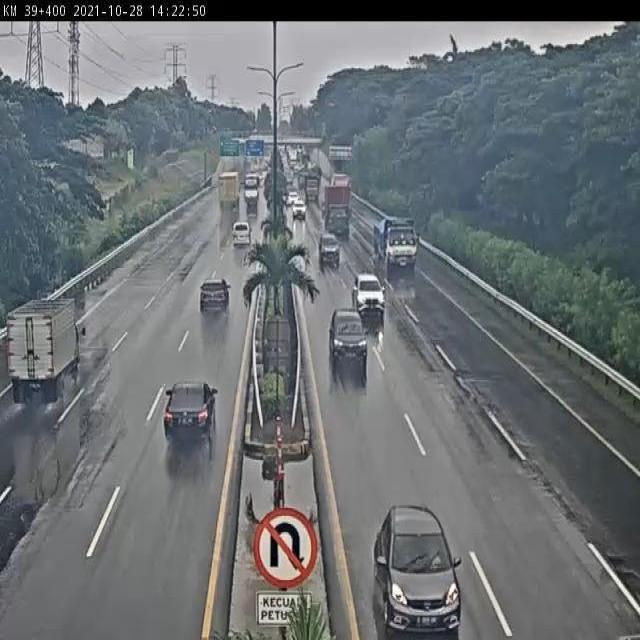car: (164, 382, 220, 442), (327, 305, 370, 375), (199, 273, 228, 311), (230, 220, 252, 245)
truck: (5, 295, 85, 401), (372, 217, 420, 276), (325, 185, 354, 240)
